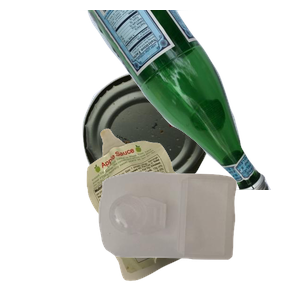glass: (75, 10, 300, 190)
metal: (80, 68, 284, 248)
plastic: (96, 169, 300, 300)
trash: (84, 126, 291, 300)
